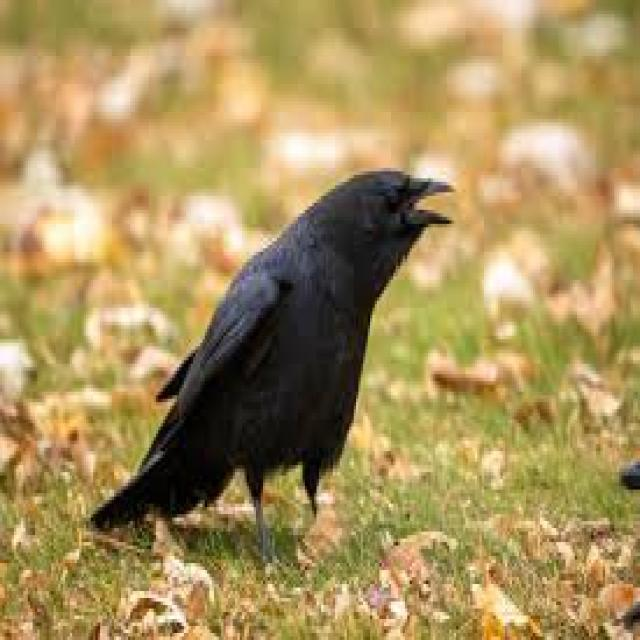crow: (267, 150, 466, 410)
